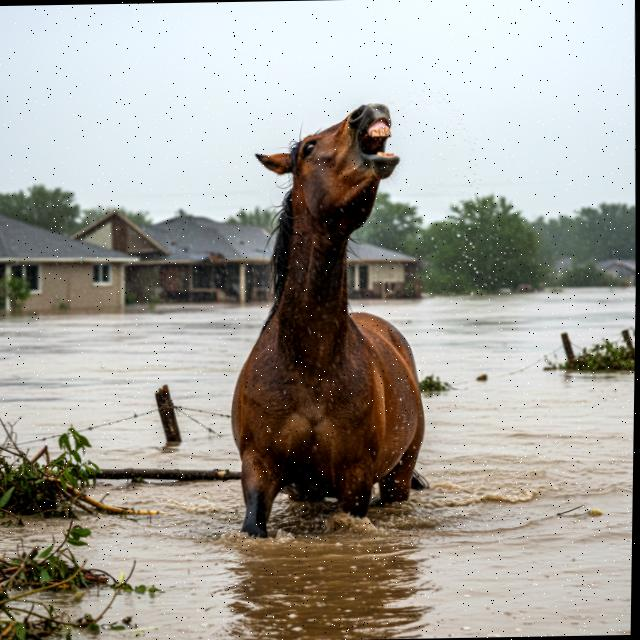horse: (208, 90, 468, 547)
